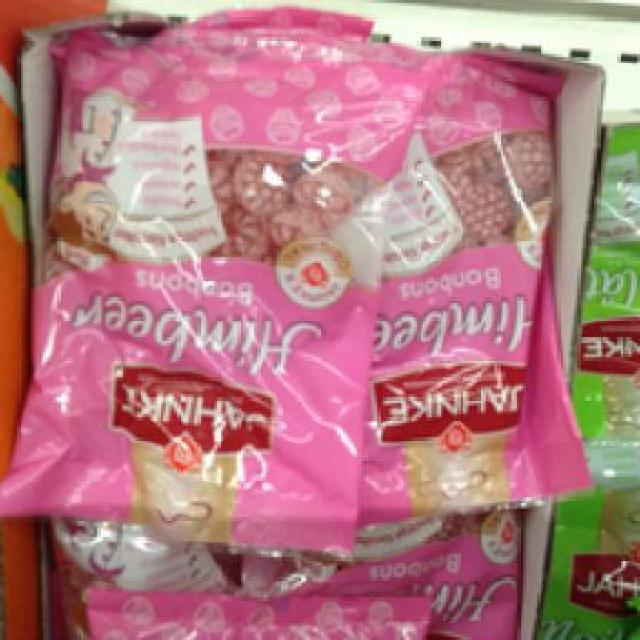Candy: (28, 28, 414, 554), (334, 51, 592, 508)
